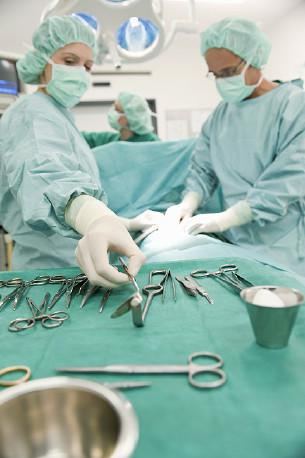OK: (44, 49, 99, 104), (206, 54, 261, 105), (110, 107, 133, 132)
